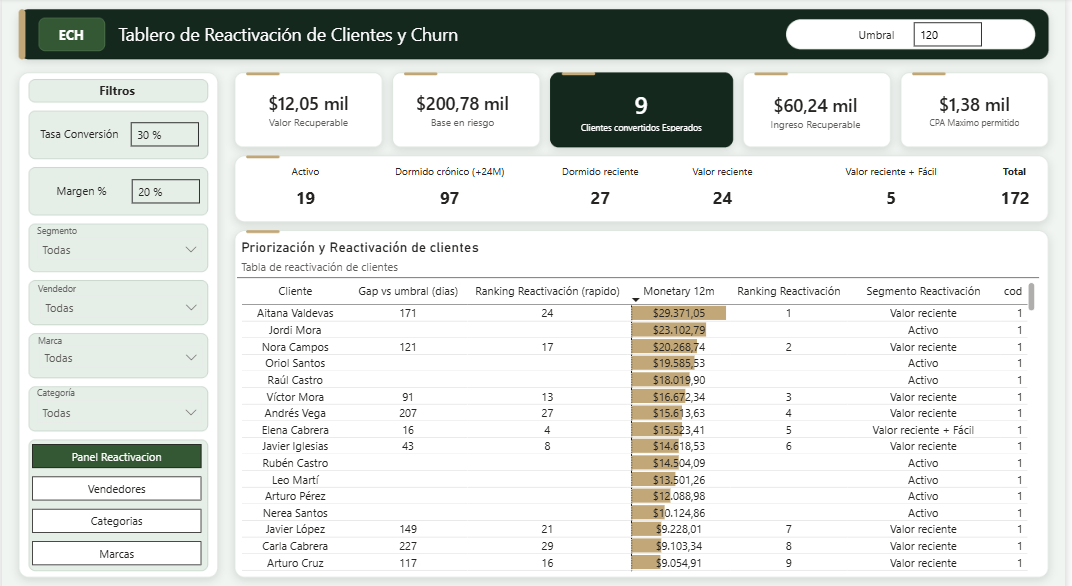

What the dashboard file says about the page in this screenshot:
{"tool":"powerbi","page":{"name":"Panel Reactivación Clientes","canvas":[1280,720],"ordinal":3},"visuals":[{"type":"tableEx","title":"Priorización y Reactivación de clientes","fields":{"Values":["DIM_Clientes.Cliente","Medidas_Reactivacion.Gap_vs_umbral_(dias)","Medidas_Reactivacion.Ranking_Reactivacion_(rapido)","Medidas_Reactivacion.Monetary_12m","Medidas_Reactivacion.Ranking_Reactivacion_(valor 12m)","Medidas_Reactivacion.Segmento_Reactivacion","Medidas_Reactivacion.Filtro_Segmento_Reactivacion"]},"box":[282.9,290.2,965.6,404.5],"z":0},{"type":"slicer","fields":{"Values":["Churn_Umbral.Churn_Umbral"]},"box":[1085,19.3,172.2,49.4],"z":1},{"type":"slicer","fields":{"Values":["Cliente_Segmento.Segmento"]},"box":[32.5,278.1,217.9,53],"z":2},{"type":"pivotTable","fields":{"Columns":["Cliente_Segmento.Segmento"],"Values":["Medidas_Reactivacion.Clientes_por_segmento"]},"box":[282.9,193.8,977.7,72.2],"z":3},{"type":"slicer","fields":{"Values":["DIM_Vendedor.Nombre"]},"box":[36.1,348,214.3,49.4],"z":4},{"type":"slicer","fields":{"Values":["Tasa_conversion.Tasa_conversion"]},"box":[142.1,139.7,175.8,49.4],"z":5},{"type":"slicer","fields":{"Values":["Margen_%.Margen_%"]},"box":[143.3,208.3,177,49.4],"z":6},{"type":"cardVisual","fields":{"Data":["Medidas_Reactivacion.Base_en_riesgo_12M"]},"box":[468,92,172.2,85],"z":7},{"type":"cardVisual","fields":{"Data":["Medidas_Reactivacion.Ingreso_Recuperable_12M"]},"box":[893,94,172.2,85.5],"z":8},{"type":"cardVisual","fields":{"Data":["Medidas_Reactivacion.Valor_Recuperable_Potencial"]},"box":[283,92,172,85],"z":9},{"type":"cardVisual","fields":{"Data":["Medidas_Reactivacion.Clientes_convertidos_Esperados"]},"box":[659.8,92.7,220.3,85.5],"z":10},{"type":"cardVisual","fields":{"Data":["Medidas_Reactivacion.CPA_Maximo_permitido_(break_raven)"]},"box":[1084.8,92.7,172.2,85.5],"z":11},{"type":"slicer","fields":{"Values":["DIM_Marca.Marca"]},"box":[34.9,408.2,215.5,54.2],"z":12},{"type":"slicer","fields":{"Values":["DIM_Categoria.categorianombre"]},"box":[32.5,474.4,217.9,50.6],"z":13},{"type":"bookmarkNavigator","box":[36.1,537,204.7,148.1],"z":17},{"type":"textbox","box":[134.8,24.1,431,42.1],"z":18},{"type":"textbox","box":[54.2,28.9,59,39.7],"z":19},{"type":"textbox","box":[36.1,96.3,204.7,30.1],"z":20},{"type":"textbox","box":[1009,30.1,87.9,27.7],"z":21},{"type":"textbox","box":[33.7,149.3,119.2,30.1],"z":22},{"type":"textbox","box":[36.1,217.9,119.2,30.1],"z":23},{"type":"textbox","box":[31.3,264.9,69.8,27],"z":24},{"type":"textbox","box":[31.3,334.7,69.8,27],"z":25},{"type":"textbox","box":[30.1,459.9,69.8,27],"z":26},{"type":"textbox","box":[22.9,397.3,69.8,27],"z":27}]}

Visuals, with their boxes in screenshot pixels (x1, y1, x2, y2), scaled from the page's 1280x720 canvas onto the 1072x586 screenshot:
"Priorización y Reactivación de clientes" tableEx: box=[237, 236, 1046, 565]
slicer - Churn_Umbral.Churn_Umbral: box=[909, 16, 1053, 56]
slicer - Cliente_Segmento.Segmento: box=[27, 226, 210, 269]
pivotTable - Cliente_Segmento.Segmento x Medidas_Reactivacion.Clientes_por_segmento: box=[237, 158, 1056, 216]
slicer - DIM_Vendedor.Nombre: box=[30, 283, 210, 323]
slicer - Tasa_conversion.Tasa_conversion: box=[119, 114, 266, 154]
slicer - Margen_%.Margen_%: box=[120, 170, 268, 210]
cardVisual - Medidas_Reactivacion.Base_en_riesgo_12M: box=[392, 75, 536, 144]
cardVisual - Medidas_Reactivacion.Ingreso_Recuperable_12M: box=[748, 77, 892, 146]
cardVisual - Medidas_Reactivacion.Valor_Recuperable_Potencial: box=[237, 75, 381, 144]
cardVisual - Medidas_Reactivacion.Clientes_convertidos_Esperados: box=[553, 75, 737, 145]
cardVisual - Medidas_Reactivacion.CPA_Maximo_permitido_(break_raven): box=[909, 75, 1053, 145]
slicer - DIM_Marca.Marca: box=[29, 332, 210, 376]
slicer - DIM_Categoria.categorianombre: box=[27, 386, 210, 427]
bookmarkNavigator: box=[30, 437, 202, 558]
textbox: box=[113, 20, 474, 54]
textbox: box=[45, 24, 95, 56]
textbox: box=[30, 78, 202, 103]
textbox: box=[845, 24, 919, 47]
textbox: box=[28, 122, 128, 146]
textbox: box=[30, 177, 130, 202]
textbox: box=[26, 216, 85, 238]
textbox: box=[26, 272, 85, 294]
textbox: box=[25, 374, 84, 396]
textbox: box=[19, 323, 78, 345]
